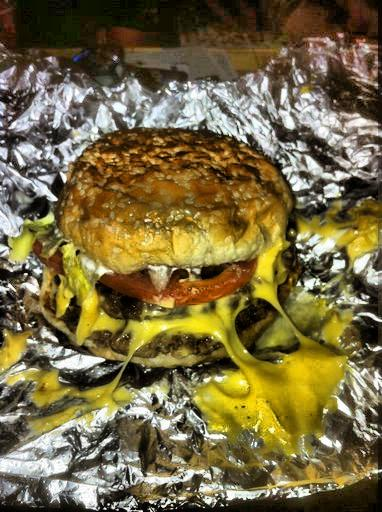burger: (48, 100, 309, 374)
